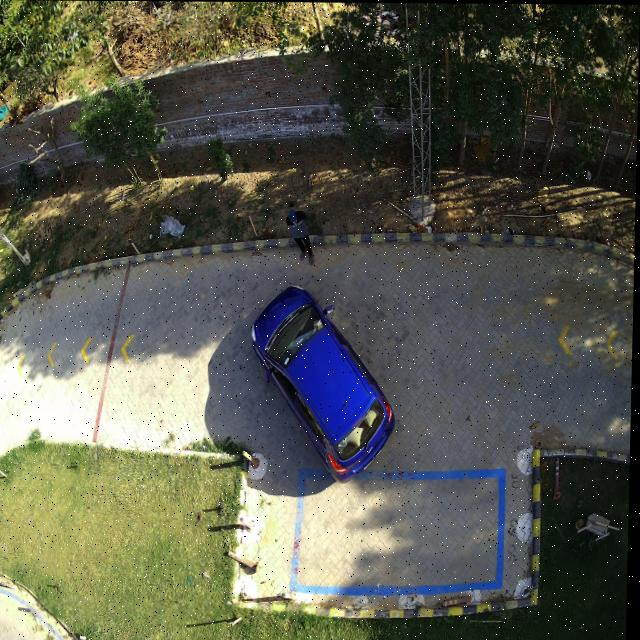car: (253, 282, 399, 485)
